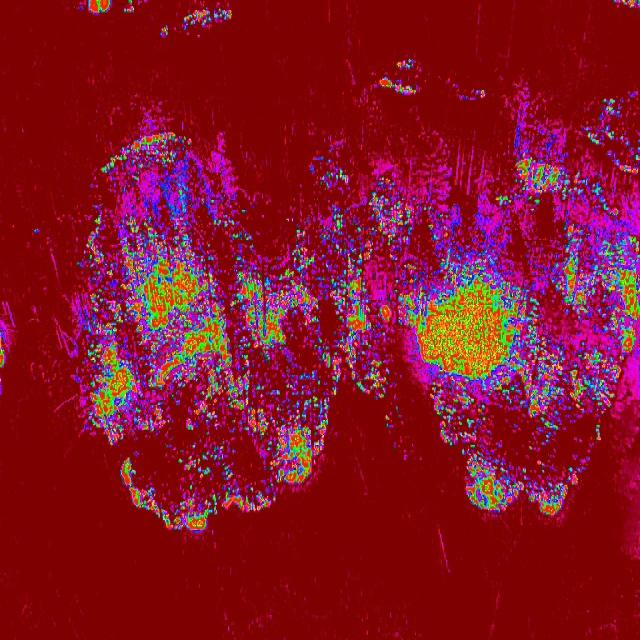fire: (346, 153, 640, 444), (77, 122, 247, 532), (247, 205, 346, 513), (462, 445, 590, 520), (510, 84, 640, 154), (158, 3, 234, 41), (370, 52, 423, 102), (0, 298, 16, 394), (313, 154, 346, 190), (84, 0, 110, 11)
